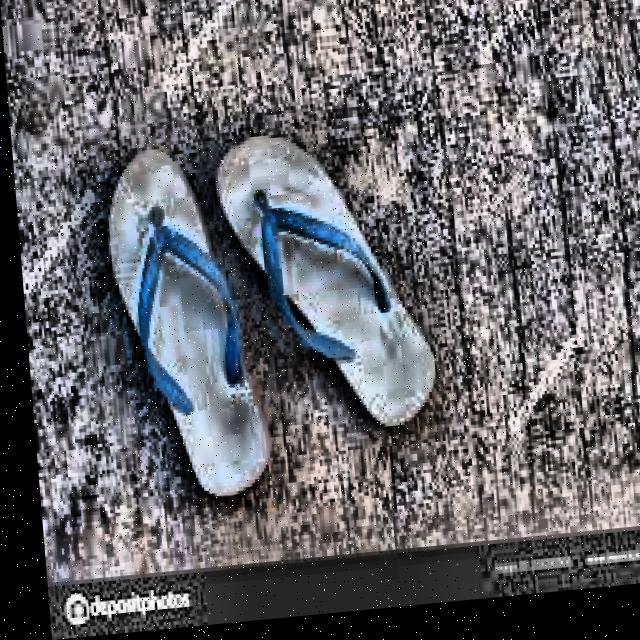shoes: (97, 112, 450, 517)
